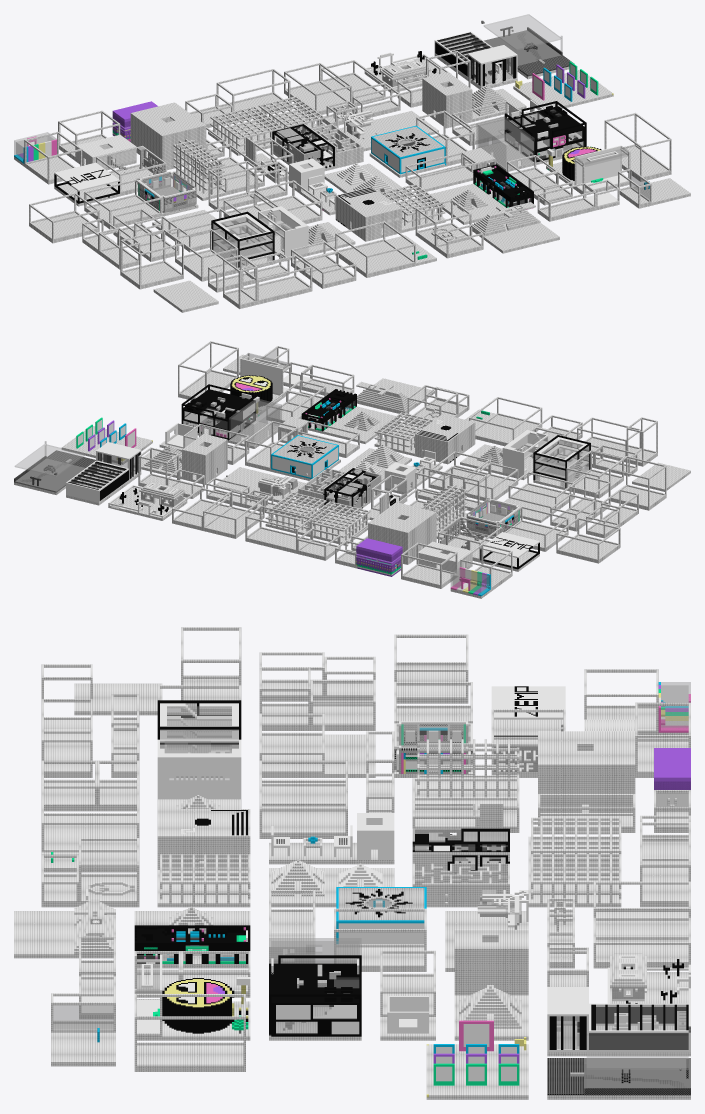
Rendered from DeepSouth-v1.glb.
The picture shows the model from 3 angles, top to bottom: view 1: azimuth 30°, elevation 25°; view 2: azimuth 150°, elevation 25°; view 3: azimuth 270°, elevation 25°; orthographic projection. The views are drawn at different scales.
Parts seen in each view (by area): view 1: solid-voxels_45.001, solid-voxels_52.001, solid-voxels_74, solid-voxels_42.001, solid-voxels_6.002, solid-voxels_47.001, solid-voxels_62.001, glass-voxels_2.002, solid-voxels.002, solid-voxels_49.001, solid-voxels_89, solid-voxels_81 (+84 smaller); view 2: solid-voxels_45.001, solid-voxels_52.001, solid-voxels_74, solid-voxels_42.001, solid-voxels.002, solid-voxels_47.001, solid-voxels_66.001, solid-voxels_62.001, glass-voxels_2.002, solid-voxels_6.002, solid-voxels_59.001, solid-voxels_84 (+81 smaller); view 3: solid-voxels_45.001, solid-voxels_52.001, solid-voxels_66.001, solid-voxels_80, solid-voxels_33.001, solid-voxels_62.001, solid-voxels_74, solid-voxels_67.001, solid-voxels_46.001, solid-voxels_49.001, solid-voxels_42.001, solid-voxels_31.001 (+83 smaller).
Boxes of the visible parts, x1=… form: solid-voxels_45.001: x1=504, y1=101, x2=586, y2=164; solid-voxels_52.001: x1=130, y1=102, x2=206, y2=170; solid-voxels_74: x1=369, y1=125, x2=446, y2=177; solid-voxels_42.001: x1=335, y1=186, x2=401, y2=241; solid-voxels_6.002: x1=335, y1=221, x2=415, y2=277; solid-voxels_47.001: x1=208, y1=106, x2=283, y2=155; solid-voxels_62.001: x1=422, y1=72, x2=472, y2=128; glass-voxels_2.002: x1=476, y1=116, x2=534, y2=169; solid-voxels.002: x1=211, y1=211, x2=274, y2=272; solid-voxels_49.001: x1=171, y1=139, x2=225, y2=200; solid-voxels_89: x1=574, y1=145, x2=630, y2=194; solid-voxels_81: x1=54, y1=162, x2=119, y2=206; solid-voxels_45.001: x1=181, y1=384, x2=255, y2=442; solid-voxels_52.001: x1=368, y1=502, x2=436, y2=564; solid-voxels_74: x1=271, y1=435, x2=340, y2=480; solid-voxels_42.001: x1=415, y1=414, x2=475, y2=464; solid-voxels.002: x1=533, y1=435, x2=590, y2=489; solid-voxels_47.001: x1=303, y1=501, x2=370, y2=545; solid-voxels_66.001: x1=66, y1=461, x2=128, y2=505; solid-voxels_62.001: x1=182, y1=434, x2=227, y2=484; glass-voxels_2.002: x1=229, y1=398, x2=281, y2=446; solid-voxels_6.002: x1=469, y1=397, x2=542, y2=446; solid-voxels_59.001: x1=324, y1=468, x2=381, y2=514; solid-voxels_84: x1=14, y1=456, x2=85, y2=494; solid-voxels_45.001: x1=269, y1=955, x2=361, y2=1040; solid-voxels_52.001: x1=538, y1=731, x2=635, y2=812; solid-voxels_66.001: x1=589, y1=1003, x2=690, y2=1056; solid-voxels_80: x1=426, y1=1044, x2=528, y2=1099; solid-voxels_33.001: x1=157, y1=854, x2=250, y2=907; solid-voxels_62.001: x1=454, y1=929, x2=528, y2=995; solid-voxels_74: x1=336, y1=887, x2=426, y2=944; solid-voxels_67.001: x1=162, y1=977, x2=250, y2=1040; solid-voxels_46.001: x1=528, y1=854, x2=621, y2=907; solid-voxels_49.001: x1=415, y1=739, x2=519, y2=797; solid-voxels_42.001: x1=157, y1=809, x2=250, y2=869; solid-voxels_31.001: x1=412, y1=852, x2=509, y2=907.
Size of the model in its own units: 220 by 14 by 146.
Materials: 2 (1 with a texture image).
